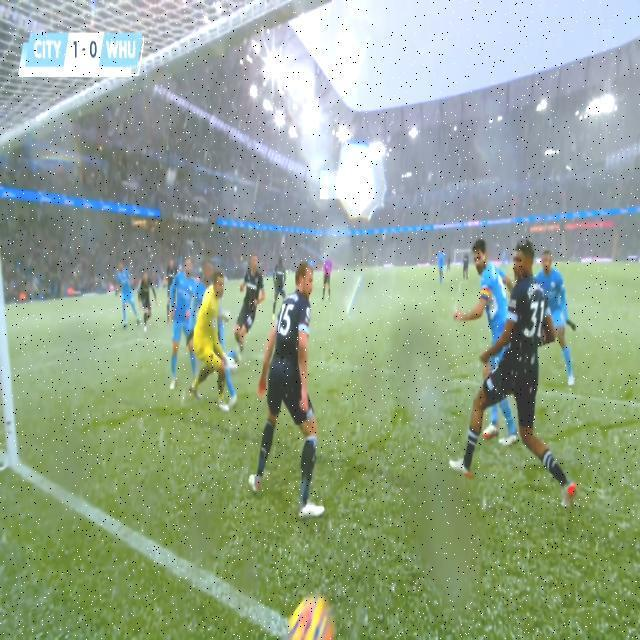ball: (283, 580, 351, 640)
goalkeeper: (193, 273, 227, 417)
player: (257, 260, 317, 520), (502, 242, 552, 536), (470, 234, 516, 451), (164, 256, 200, 403), (538, 243, 572, 393), (241, 247, 267, 349), (112, 256, 140, 345), (267, 249, 289, 329), (133, 272, 159, 337), (433, 243, 449, 295), (166, 255, 178, 307), (458, 254, 472, 282)
referee: (313, 250, 341, 318)
